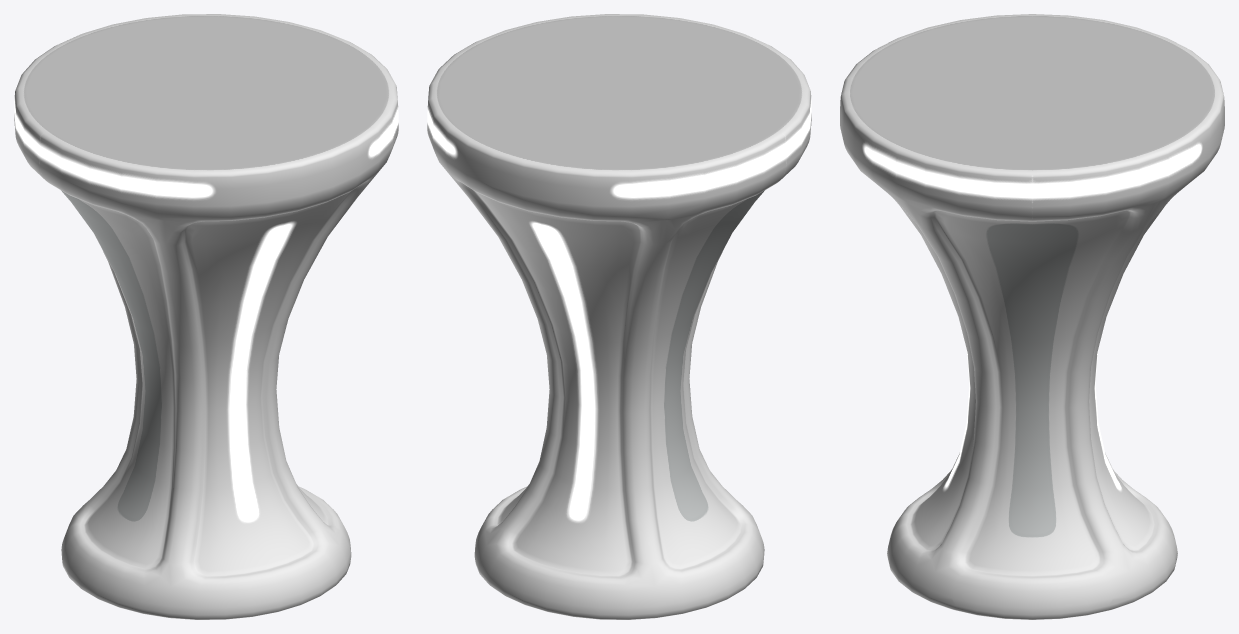
File: BarTable07.FBX
The picture shows the model from 3 angles, left to right: view 1: azimuth 30°, elevation 25°; view 2: azimuth 150°, elevation 25°; view 3: azimuth 270°, elevation 25°; orthographic projection.
Parts seen in each view (by area): view 1: BarTable07; view 2: BarTable07; view 3: BarTable07.
Part boxes in pixels (x1,y1,x2,y2): BarTable07: (14, 14, 398, 619); BarTable07: (427, 14, 811, 619); BarTable07: (840, 14, 1224, 619).
Size of what is drawn, in the model's own units: 0.8227 by 1.1 by 0.8227.
